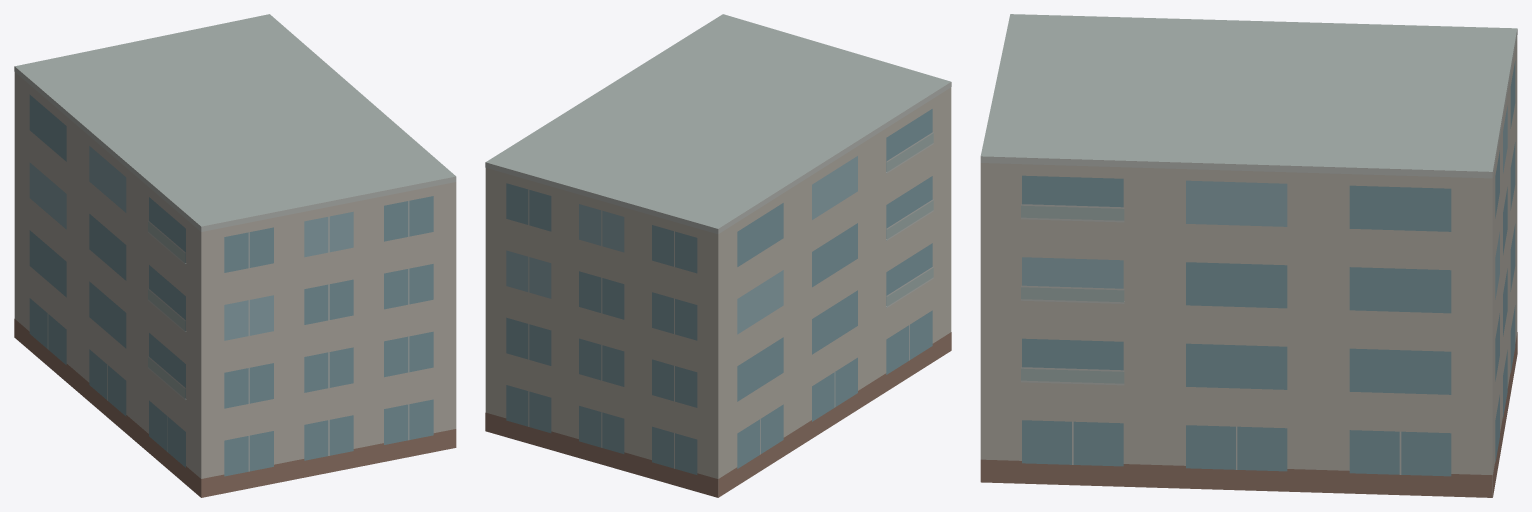
File: survey-upis-32769722.glb
3 views of the same model, side by side, from view 1: azimuth 30°, elevation 25°; view 2: azimuth 150°, elevation 25°; view 3: azimuth 270°, elevation 25° (orthographic). The views are drawn at different scales.
Parts seen in each view (by area): view 1: survey-upis-32769722.tmp; view 2: survey-upis-32769722.tmp; view 3: survey-upis-32769722.tmp.
Boxes of the visible parts, x1=… form: survey-upis-32769722.tmp: x1=14, y1=14, x2=456, y2=497; survey-upis-32769722.tmp: x1=485, y1=14, x2=951, y2=497; survey-upis-32769722.tmp: x1=980, y1=14, x2=1517, y2=497.
Bounding box in the file's own units: 12.68 × 12.2 × 18.22.
